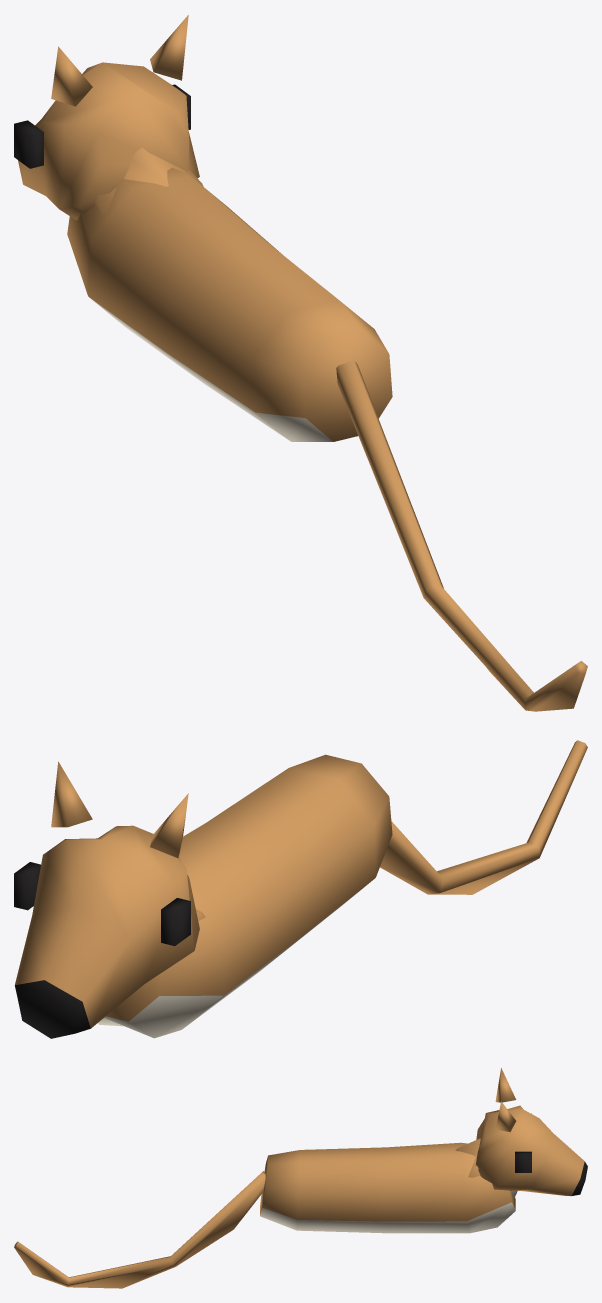
File: animal_cat.obj
3 views of the same model, one above another, from view 1: azimuth 30°, elevation 25°; view 2: azimuth 150°, elevation 25°; view 3: azimuth 270°, elevation 25° (orthographic). The views are drawn at different scales.
Parts seen in each view (by area): view 1: animal_cat_component_01_stage_1, animal_cat_component_03_stage_1, animal_cat_component_08_stage_1, animal_cat_component_02_stage_1, animal_cat_component_06_stage_1, animal_cat_component_07_stage_1, animal_cat_component_04_stage_1; view 2: animal_cat_component_01_stage_1, animal_cat_component_03_stage_1, animal_cat_component_08_stage_1, animal_cat_component_07_stage_1, animal_cat_component_06_stage_1, animal_cat_component_04_stage_1, animal_cat_component_05_stage_1; view 3: animal_cat_component_01_stage_1, animal_cat_component_03_stage_1, animal_cat_component_08_stage_1, animal_cat_component_02_stage_1, animal_cat_component_06_stage_1, animal_cat_component_07_stage_1, animal_cat_component_05_stage_1.
Part boxes in pixels (x1,y1,x2,y2): animal_cat_component_01_stage_1: (67,167,392,441); animal_cat_component_03_stage_1: (18,62,199,220); animal_cat_component_08_stage_1: (336,360,587,711); animal_cat_component_02_stage_1: (94,148,203,215); animal_cat_component_06_stage_1: (51,46,92,106); animal_cat_component_07_stage_1: (150,15,188,80); animal_cat_component_04_stage_1: (14,120,43,168); animal_cat_component_01_stage_1: (98,754,392,1038); animal_cat_component_03_stage_1: (14,825,199,1038); animal_cat_component_08_stage_1: (380,740,587,894); animal_cat_component_07_stage_1: (51,761,92,827); animal_cat_component_06_stage_1: (150,793,188,857); animal_cat_component_04_stage_1: (161,898,190,945); animal_cat_component_05_stage_1: (14,862,40,910); animal_cat_component_01_stage_1: (260,1142,515,1233); animal_cat_component_03_stage_1: (475,1105,587,1196); animal_cat_component_08_stage_1: (14,1171,265,1288); animal_cat_component_02_stage_1: (455,1138,517,1198); animal_cat_component_06_stage_1: (495,1068,516,1102); animal_cat_component_07_stage_1: (495,1101,516,1132); animal_cat_component_05_stage_1: (515,1151,531,1172).
Size of the model in its own units: 0.1856 by 0.4212 by 1.08.
